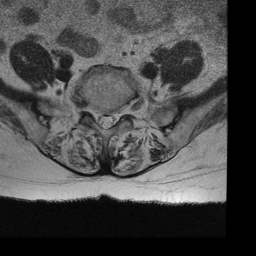CCS_normal: (102, 108, 109, 134)
LFS_normal: (118, 98, 127, 123)
LLS_normal: (110, 106, 117, 130)
RFS_stenosis: (86, 100, 95, 121)
RLS_normal: (95, 107, 102, 131)
